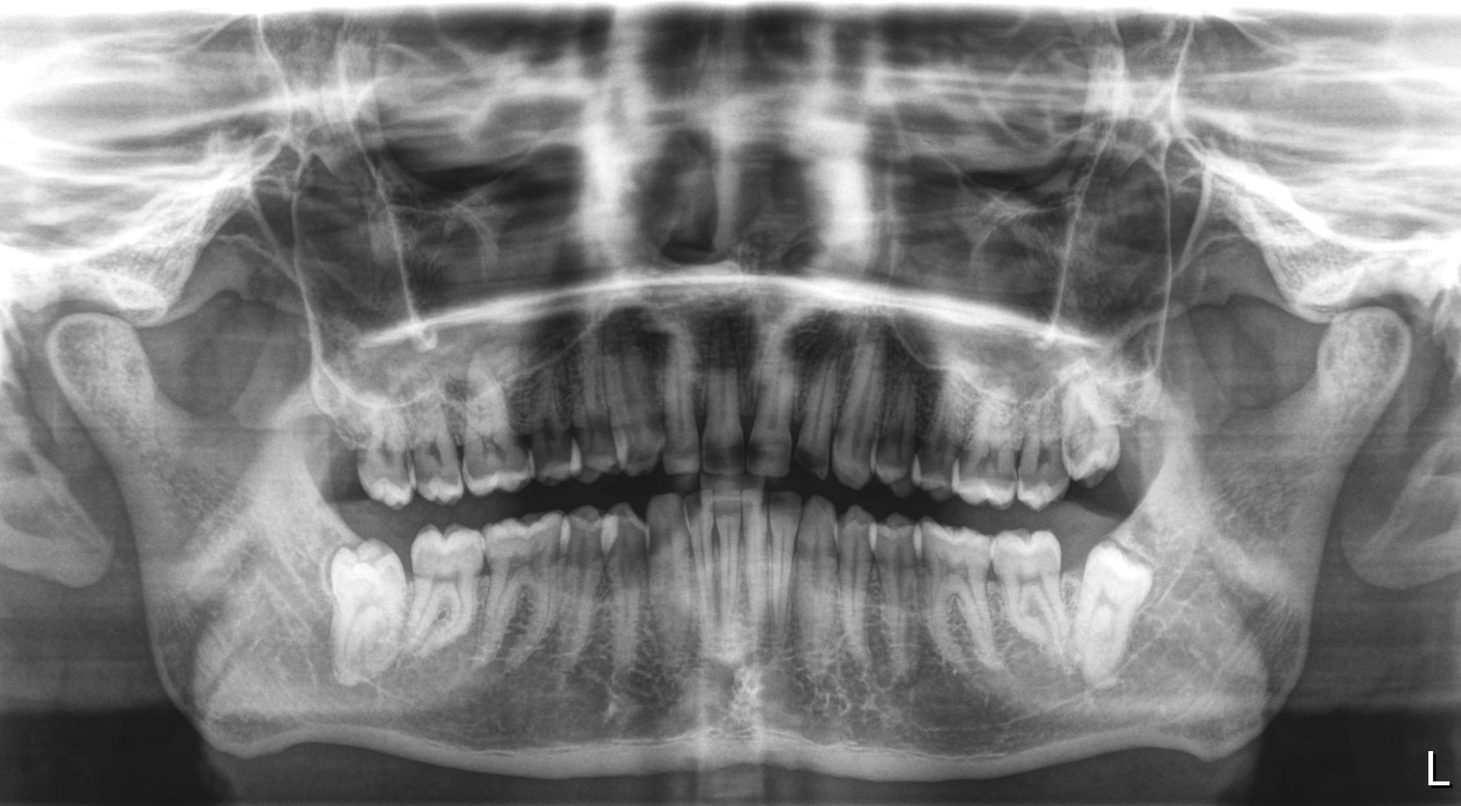Impacted Third Molar: (326, 537, 407, 683), (1074, 544, 1156, 681)
